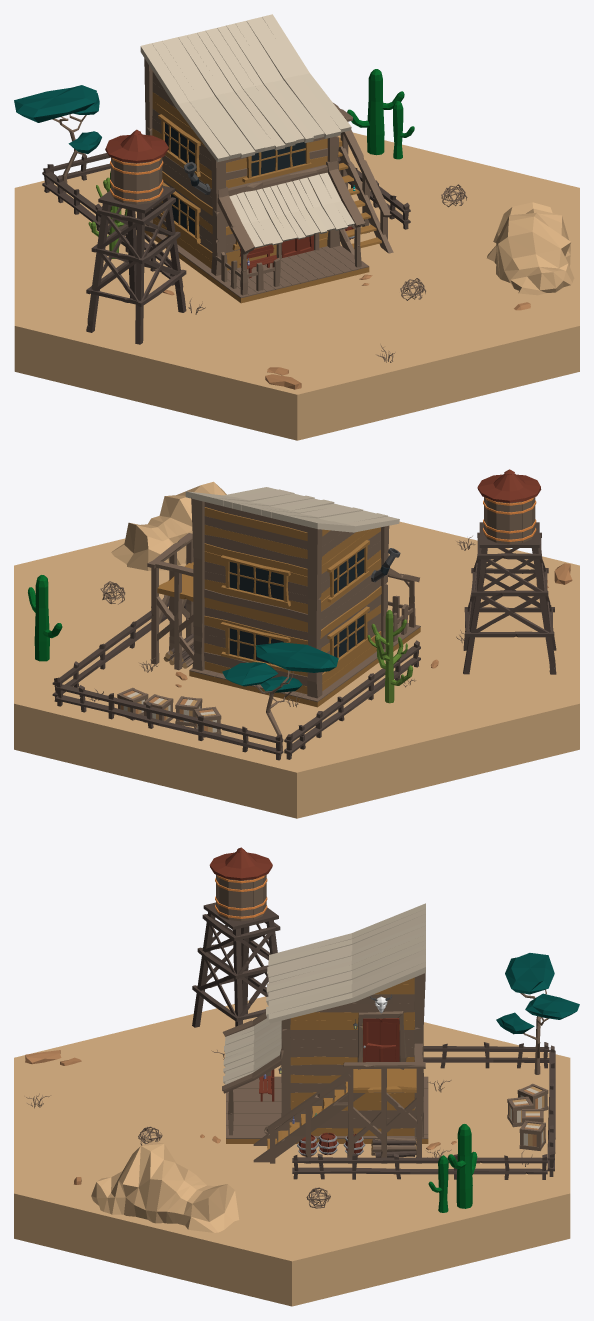
File: Tile_11.fbx
The picture shows the model from 3 angles, top to bottom: view 1: azimuth 30°, elevation 25°; view 2: azimuth 150°, elevation 25°; view 3: azimuth 270°, elevation 25°; orthographic projection.
Visible parts, largest first — view 1: Tile_11_Base, Tile_11_Building, Tile_11, Tile_11_Water_tower, Tile_11_Tree; view 2: Tile_11_Base, Tile_11_Building, Tile_11, Tile_11_Water_tower, Tile_11_Tree; view 3: Tile_11_Base, Tile_11_Building, Tile_11, Tile_11_Water_tower, Tile_11_Tree, Tile_11_Logs.
Part boxes in pixels (x1,y1,x2,y2): Tile_11_Base: (14,132,579,440); Tile_11_Building: (140,14,393,303); Tile_11: (42,69,574,389); Tile_11_Water_tower: (86,129,186,344); Tile_11_Tree: (14,85,101,192); Tile_11_Base: (14,521,579,818); Tile_11_Building: (147,487,420,707); Tile_11: (28,481,572,760); Tile_11_Water_tower: (463,469,556,674); Tile_11_Tree: (222,642,338,750); Tile_11_Base: (14,996,570,1306); Tile_11_Building: (222,903,428,1163); Tile_11: (25,1019,555,1232); Tile_11_Water_tower: (192,847,280,1027); Tile_11_Tree: (496,953,579,1074); Tile_11_Logs: (371,1136,416,1157).
Bounding box in the file's own units: 2318 × 2043 × 931.
